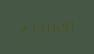nine: (57, 19, 64, 32)
one: (65, 18, 72, 32), (41, 20, 48, 33)
seven: (25, 21, 32, 34)
six: (49, 19, 56, 33)
three: (33, 20, 40, 34)
two: (17, 22, 24, 35)
